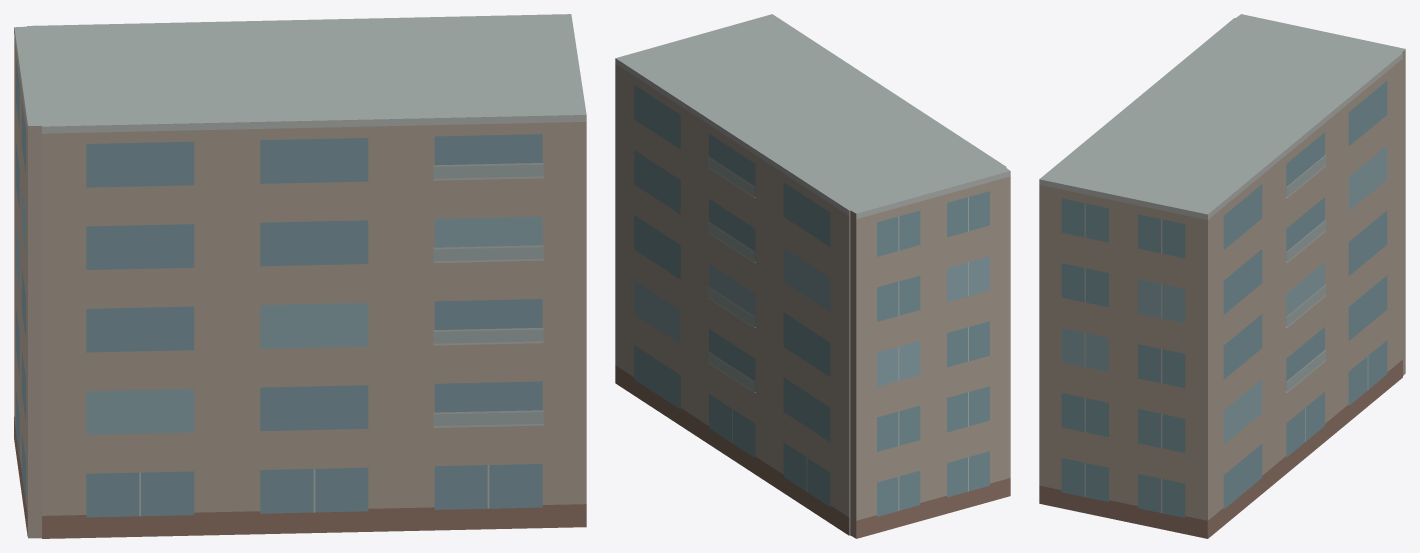
File: survey-upis-32881862.glb
3 views of the same model, side by side, from view 1: azimuth 30°, elevation 25°; view 2: azimuth 150°, elevation 25°; view 3: azimuth 270°, elevation 25° (orthographic). The views are drawn at different scales.
Visible parts, largest first — view 1: survey-upis-32881862.tmp; view 2: survey-upis-32881862.tmp; view 3: survey-upis-32881862.tmp.
Boxes of the visible parts, left/top/right/bottom form: survey-upis-32881862.tmp: left=14, top=14, right=586, bottom=538; survey-upis-32881862.tmp: left=615, top=14, right=1010, bottom=538; survey-upis-32881862.tmp: left=1039, top=14, right=1405, bottom=538.
Size of the model in its own units: 19.1 by 14.4 by 14.75.
